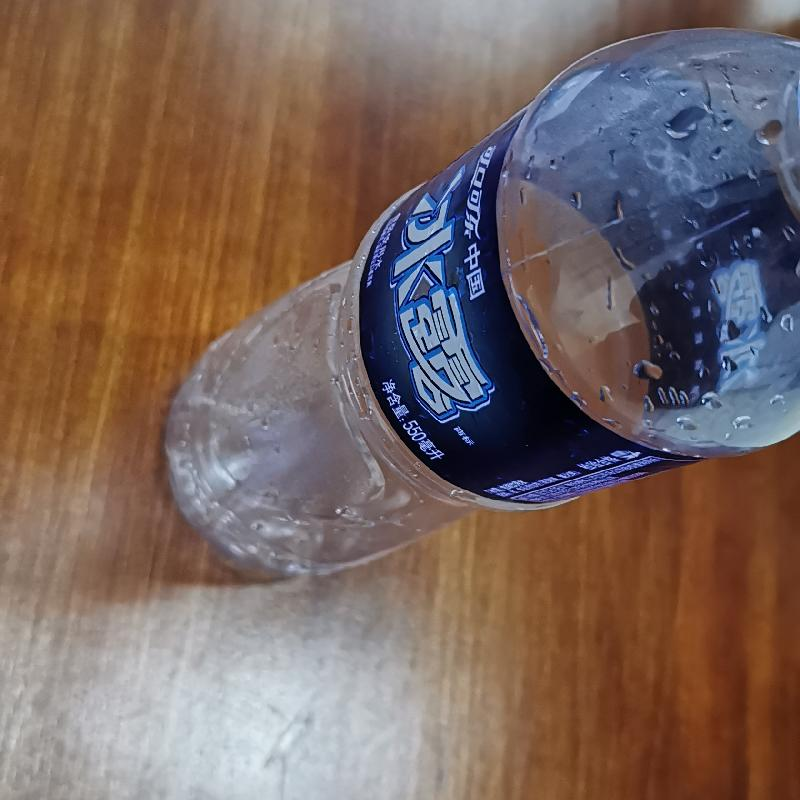bottles: (167, 22, 800, 584)
